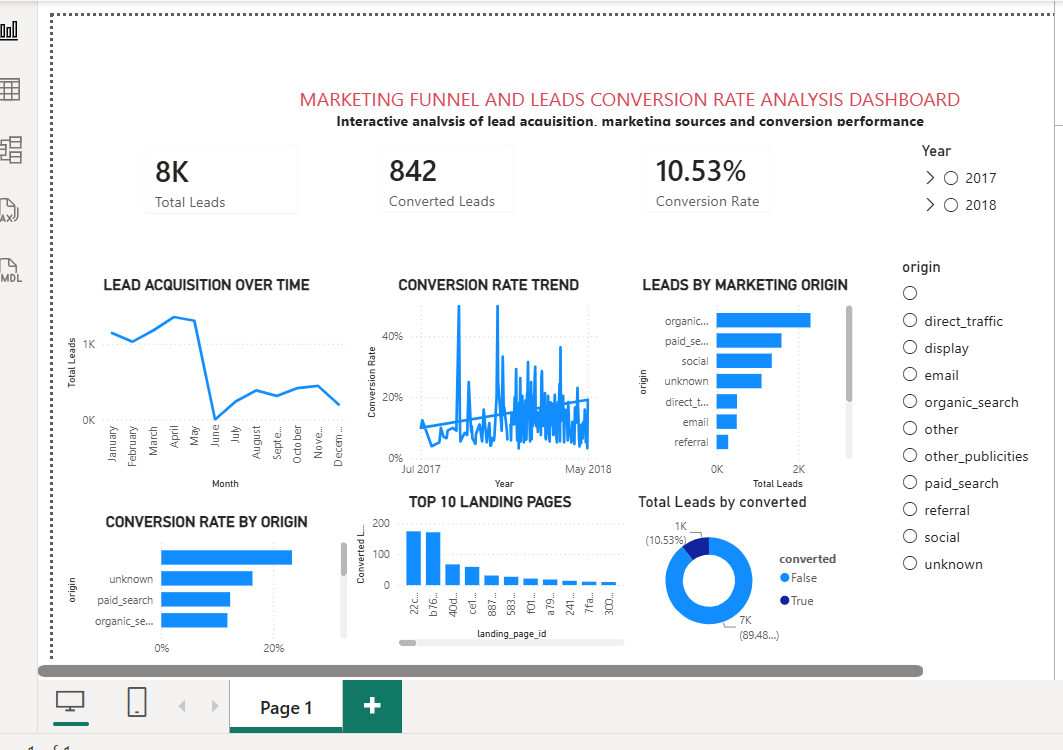

This screenshot's page, from the dashboard's own definition file:
{"tool":"powerbi","page":{"name":"Page 1","canvas":[1280,720],"ordinal":0},"visuals":[{"type":"textbox","box":[10,0,280,280],"z":0},{"type":"textbox","box":[9.4,71.8,1269.9,54.8],"z":1000},{"type":"cardVisual","fields":{"Data":["funnel_cleaned.Total Leads"]},"box":[83.3,126.7,206.7,110],"z":2000},{"type":"cardVisual","fields":{"Data":["funnel_cleaned.Converted Leads"]},"box":[343.3,126.7,186.7,108.3],"z":3000},{"type":"cardVisual","fields":{"Data":["funnel_cleaned.Conversion Rate"]},"box":[640,126.7,175,108.3],"z":4000},{"type":"lineChart","title":"LEAD ACQUISITION OVER TIME","fields":{"Category":["funnel_cleaned.first_contact_date.Variation.Date Hierarchy.Month"],"Y":["funnel_cleaned.Total Leads"]},"box":[9.4,289.1,321.3,241.9],"z":5000},{"type":"lineChart","title":"CONVERSION RATE TREND","fields":{"Y":["funnel_cleaned.Conversion Rate"],"Category":["funnel_cleaned.first_contact_date.Variation.Date Hierarchy.Month"]},"box":[343.9,289.1,281.6,241.9],"z":6000},{"type":"clusteredBarChart","title":"LEADS BY MARKETING ORIGIN","fields":{"Category":["funnel_cleaned.origin"],"Y":["funnel_cleaned.Total Leads"]},"box":[645,288.3,248.3,241.7],"z":7000},{"type":"listSlicer","fields":{"Values":["funnel_cleaned.first_contact_date.Variation.Date Hierarchy.Year","funnel_cleaned.first_contact_date.Variation.Date Hierarchy.Quarter","funnel_cleaned.first_contact_date.Variation.Date Hierarchy.Month","funnel_cleaned.first_contact_date.Variation.Date Hierarchy.Day"]},"box":[960,140,166.7,113.3],"z":8000},{"type":"listSlicer","fields":{"Values":["funnel_cleaned.origin"]},"box":[938.3,268.3,281.7,368.3],"z":9000},{"type":"clusteredBarChart","title":"CONVERSION RATE BY ORIGIN","fields":{"Y":["funnel_cleaned.Conversion Rate"],"Category":["funnel_cleaned.origin"]},"box":[10,551.7,321.7,168.3],"z":10000},{"type":"clusteredColumnChart","title":"TOP 10 LANDING PAGES","fields":{"Category":["funnel_cleaned.landing_page_id"],"Y":["funnel_cleaned.Converted Leads"]},"box":[331.7,530,308.3,175],"z":11000},{"type":"donutChart","fields":{"Category":["funnel_cleaned.converted"],"Y":["funnel_cleaned.Total Leads"]},"box":[645,530,248,175],"z":12000},{"type":"actionButton","box":[0,0,200,50],"z":14000}]}

Visuals, with their boxes on the page's 1280x720 design canvas (x1, y1, x2, y2). These are canvas units, not pixel positions in the 1063x750 screenshot, which may show the page scaled, cropped or inside an application window:
textbox: bbox=(10, 0, 290, 280)
textbox: bbox=(9, 72, 1279, 127)
cardVisual - funnel_cleaned.Total Leads: bbox=(83, 127, 290, 237)
cardVisual - funnel_cleaned.Converted Leads: bbox=(343, 127, 530, 235)
cardVisual - funnel_cleaned.Conversion Rate: bbox=(640, 127, 815, 235)
"LEAD ACQUISITION OVER TIME" lineChart: bbox=(9, 289, 331, 531)
"CONVERSION RATE TREND" lineChart: bbox=(344, 289, 626, 531)
"LEADS BY MARKETING ORIGIN" clusteredBarChart: bbox=(645, 288, 893, 530)
listSlicer - funnel_cleaned.first_contact_date.Variation.Date Hierarchy.Year x funnel_cleaned.first_contact_date.Variation.Date Hierarchy.Quarter: bbox=(960, 140, 1127, 253)
listSlicer - funnel_cleaned.origin: bbox=(938, 268, 1220, 637)
"CONVERSION RATE BY ORIGIN" clusteredBarChart: bbox=(10, 552, 332, 720)
"TOP 10 LANDING PAGES" clusteredColumnChart: bbox=(332, 530, 640, 705)
donutChart - funnel_cleaned.converted x funnel_cleaned.Total Leads: bbox=(645, 530, 893, 705)
actionButton: bbox=(0, 0, 200, 50)
